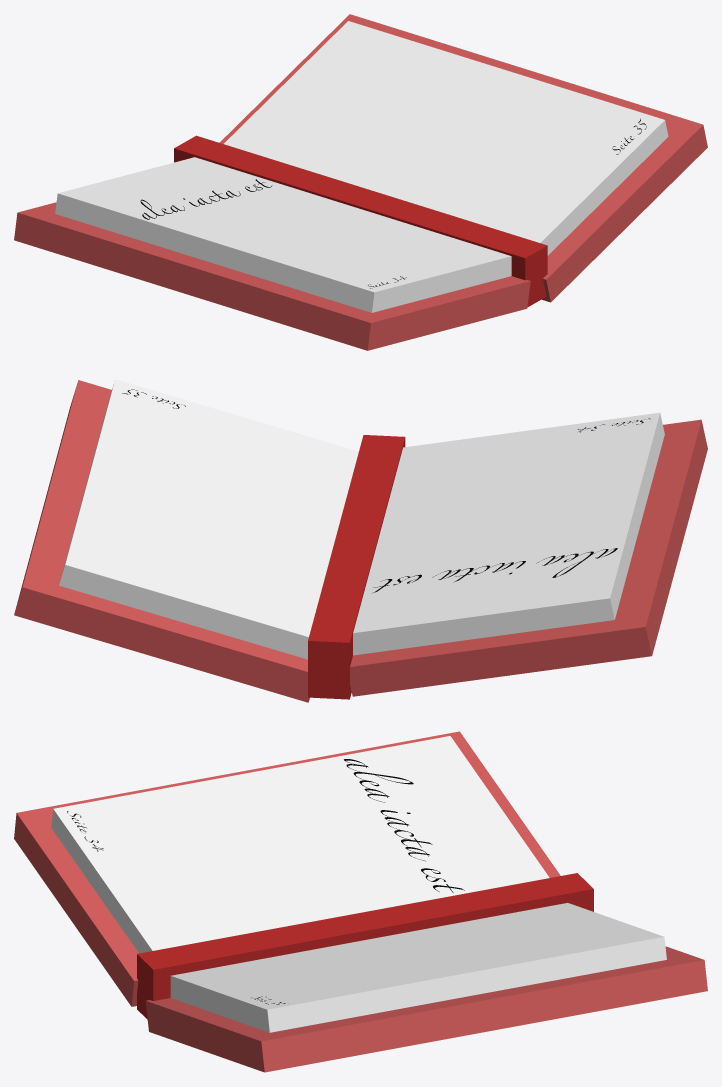
Rendered from book.dae.
The picture shows the model from 3 angles, top to bottom: view 1: azimuth 30°, elevation 25°; view 2: azimuth 150°, elevation 25°; view 3: azimuth 270°, elevation 25°; orthographic projection. The views are drawn at different scales.
Parts seen in each view (by area): view 1: instance_0_003, instance_0_004, instance_0_001, instance_0, instance_0_002; view 2: instance_0_003, instance_0_004, instance_0_001, instance_0, instance_0_002; view 3: instance_0_004, instance_0_003, instance_0, instance_0_002, instance_0_001.
Boxes of the visible parts, box(x1,y1,x2,y2) form: instance_0_003: box(224, 21, 668, 255); instance_0_004: box(55, 157, 511, 312); instance_0_001: box(14, 202, 530, 350); instance_0: box(219, 14, 707, 302); instance_0_002: box(174, 135, 547, 307); instance_0_003: box(59, 379, 358, 659); instance_0_004: box(353, 412, 664, 655); instance_0_001: box(350, 419, 707, 696); instance_0: box(14, 380, 309, 702); instance_0_002: box(308, 435, 405, 699); instance_0_004: box(51, 736, 549, 953); instance_0_003: box(170, 903, 666, 1032); instance_0: box(145, 946, 707, 1072); instance_0_002: box(137, 873, 593, 1019); instance_0_001: box(14, 731, 560, 1006).
Bounding box in the file's own units: 0.674 × 0.6079 × 0.1085.
